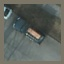car: (12, 11, 45, 46)
